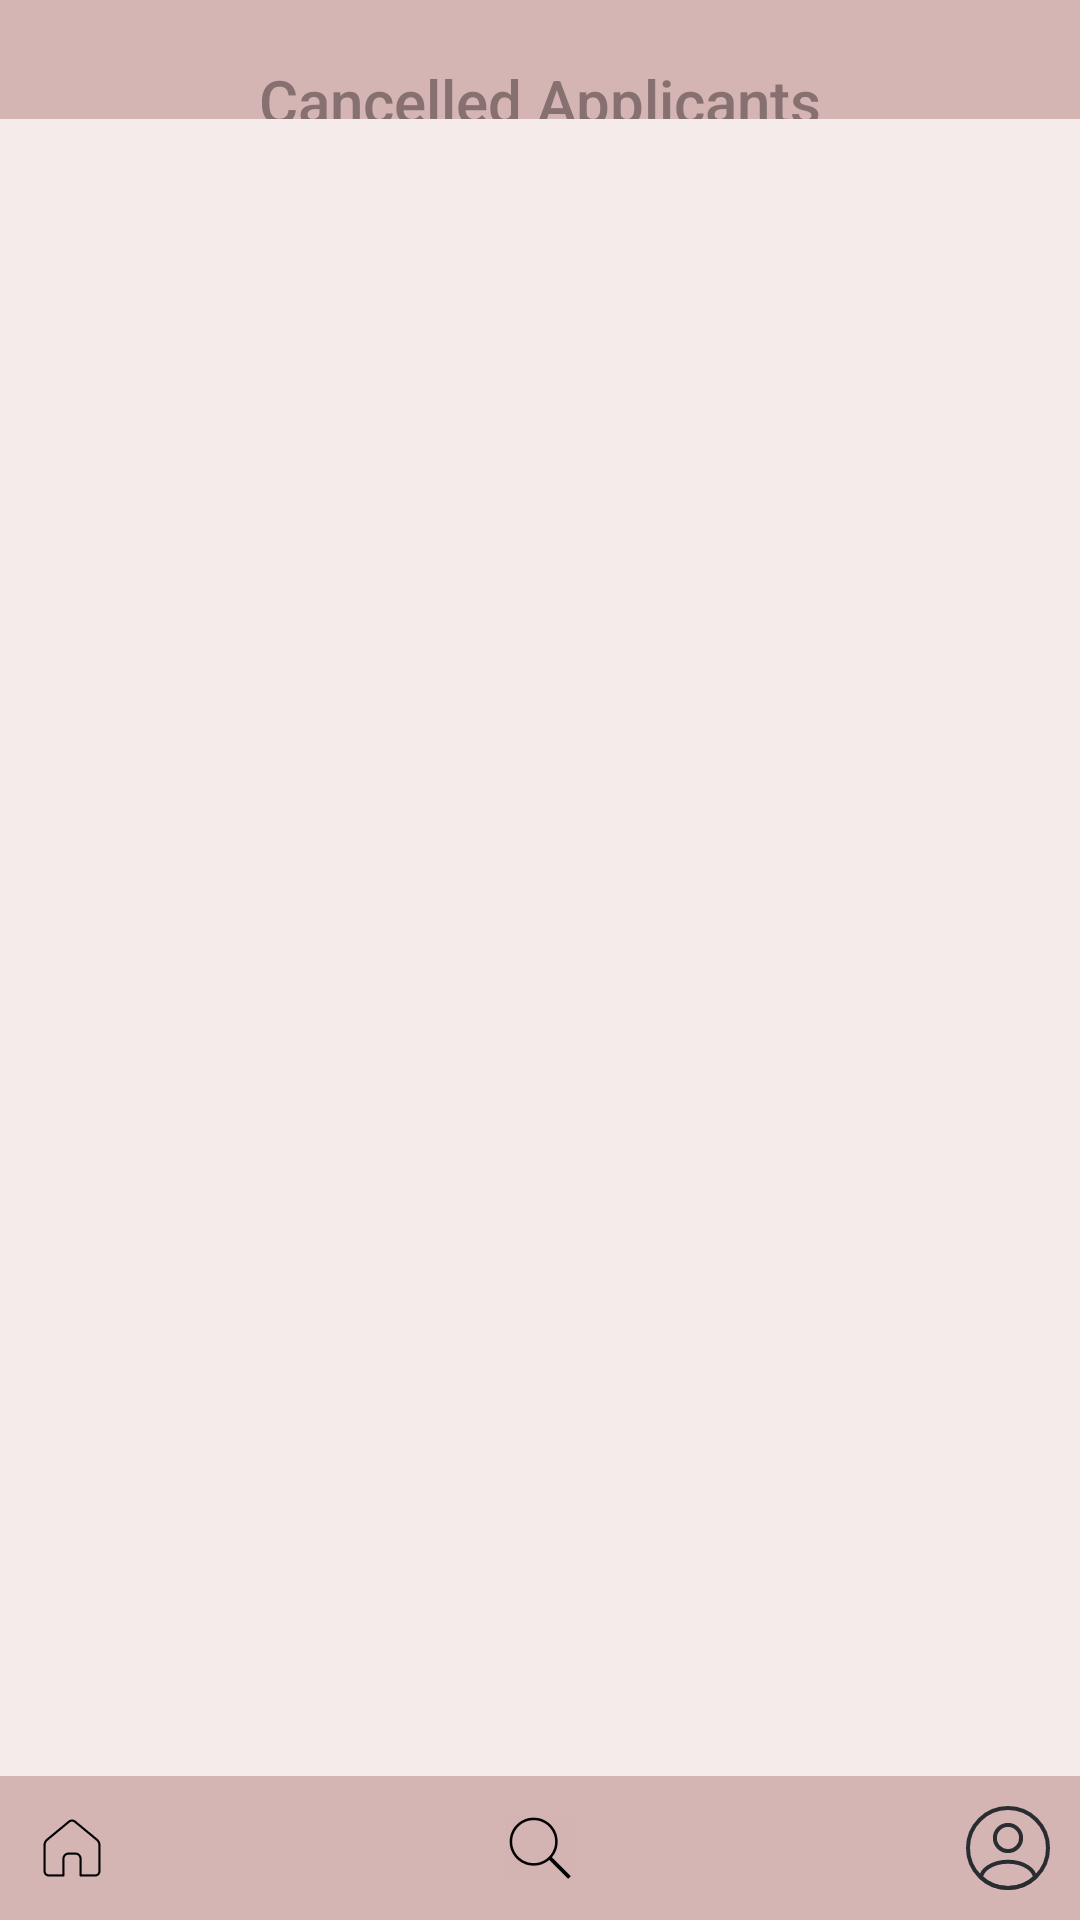

Point at icon controls on the screen. Image size 1080 x 1920, points as point (x, y).
profile tiny: point (1008, 1848)
